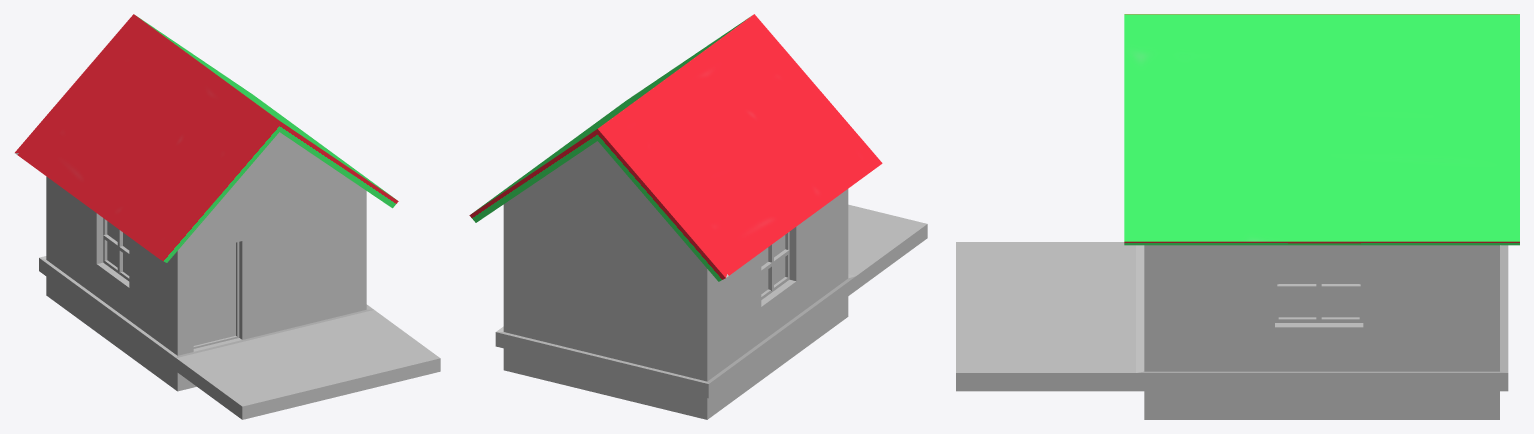
The model's file is Home.obj.
The picture shows the model from 3 angles, left to right: view 1: azimuth 30°, elevation 25°; view 2: azimuth 150°, elevation 25°; view 3: azimuth 270°, elevation 25°; orthographic projection. The views are drawn at different scales.
Visible parts, largest first — view 1: Cube, Cube.001; view 2: Cube, Cube.001; view 3: Cube.001, Cube.
Boxes of the visible parts, x1,y1,x2,y2 form: Cube: (39, 132, 440, 419); Cube.001: (15, 14, 398, 262); Cube: (495, 141, 927, 419); Cube.001: (469, 14, 882, 281); Cube.001: (1124, 14, 1519, 245); Cube: (956, 242, 1508, 419).
Size of the model in its own units: 6.3 by 6.39 by 9.51.
